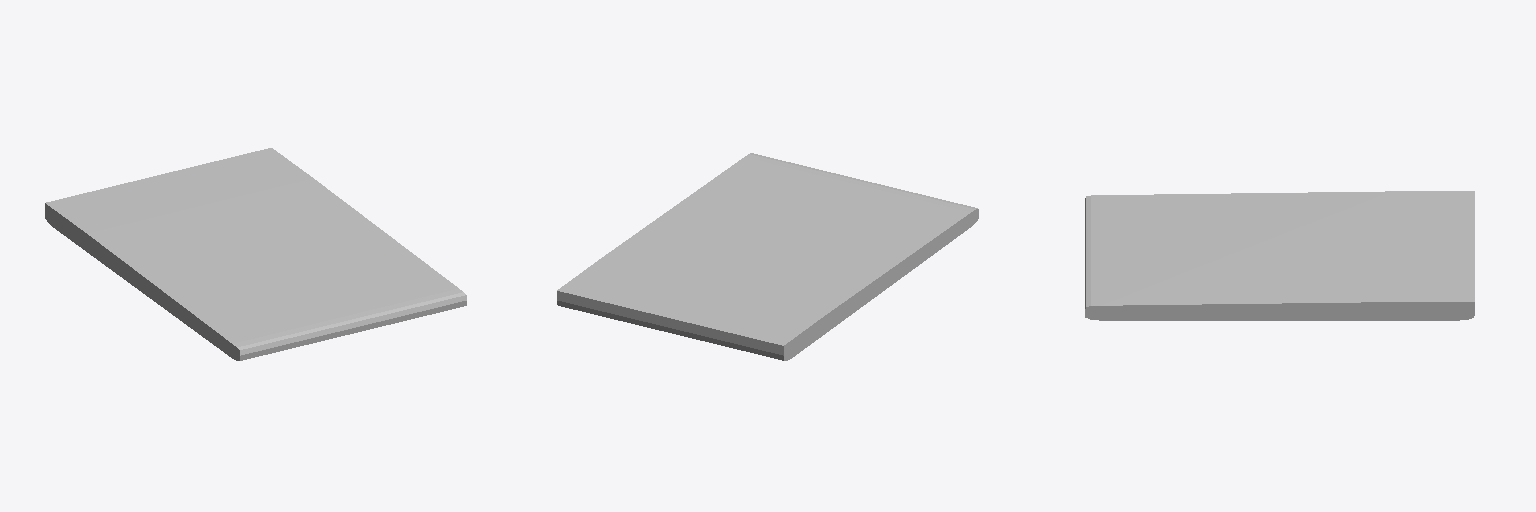
The model's file is Cart_pocket_collision_3.obj.
3 renders of one model, left to right at view 1: azimuth 30°, elevation 25°; view 2: azimuth 150°, elevation 25°; view 3: azimuth 270°, elevation 25°, orthographic.
Bounding box in the file's own units: 0.2148 × 0.0167 × 0.3206.